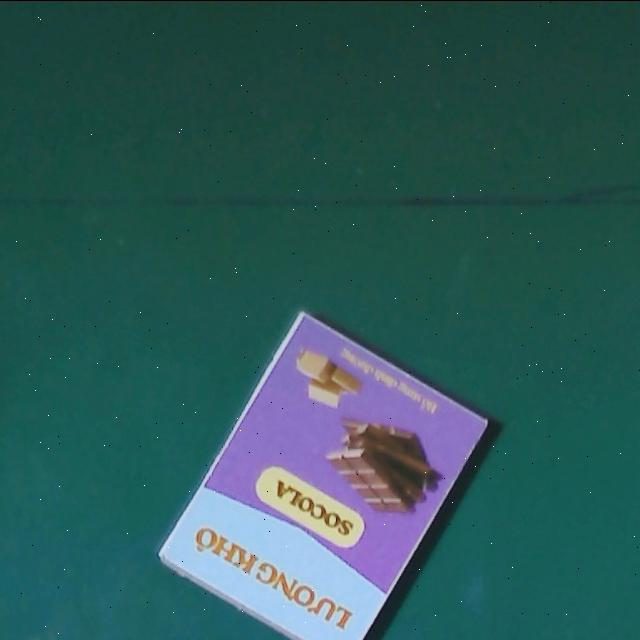socola: (153, 308, 490, 640)
